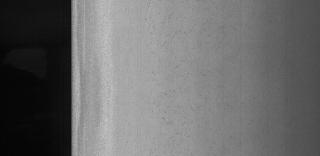silk spot: (142, 12, 198, 148)
